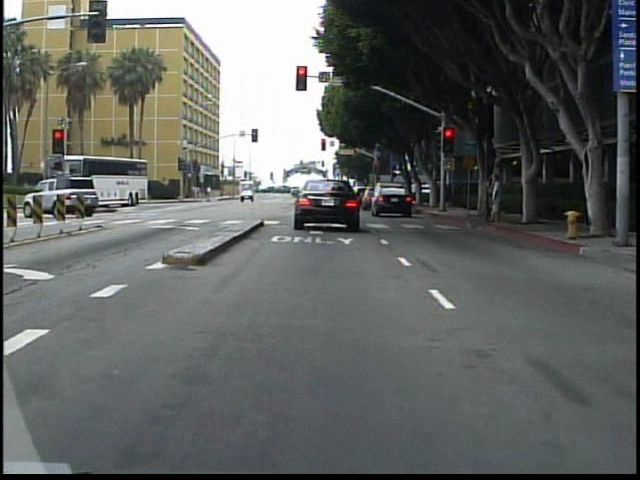person: (485, 169, 505, 225)
